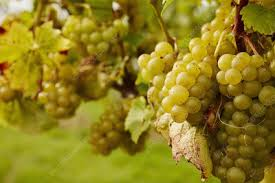grapes: (220, 51, 268, 183), (138, 44, 212, 121), (36, 70, 85, 116), (71, 17, 123, 59), (89, 114, 128, 160)
